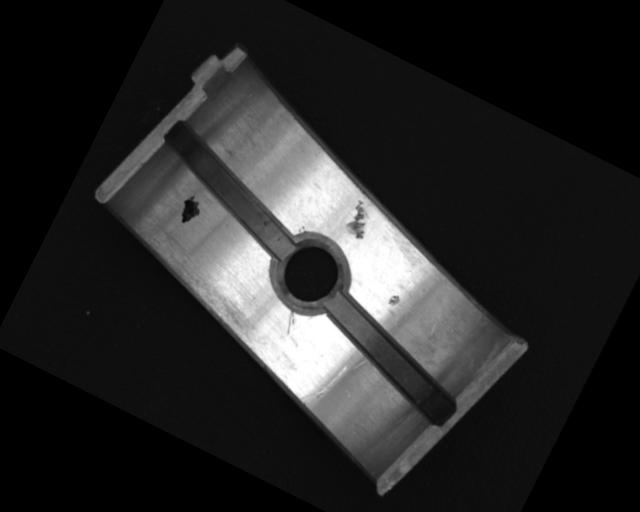blot: (174, 191, 206, 229)
bruise: (341, 198, 380, 243), (386, 291, 403, 310)
gap: (138, 118, 320, 264), (303, 290, 477, 427)
hole: (257, 223, 361, 328)
nick: (298, 354, 350, 416), (280, 307, 301, 335)
scratch: (120, 229, 266, 338)
